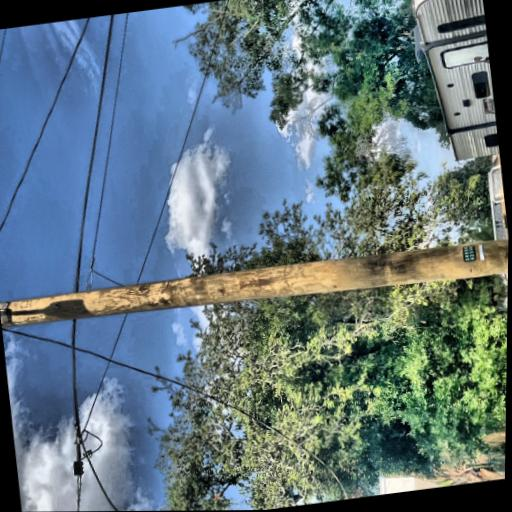pole: (33, 16, 164, 512)
street light: (58, 15, 129, 153)
transformer: (88, 12, 143, 97)
